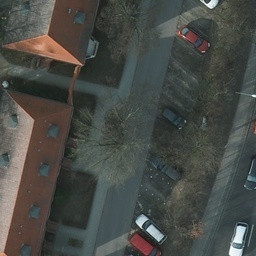car: (155, 101, 189, 135), (147, 154, 180, 181), (127, 231, 160, 256), (136, 215, 166, 242), (227, 222, 248, 256), (179, 26, 210, 46), (199, 1, 219, 11)
